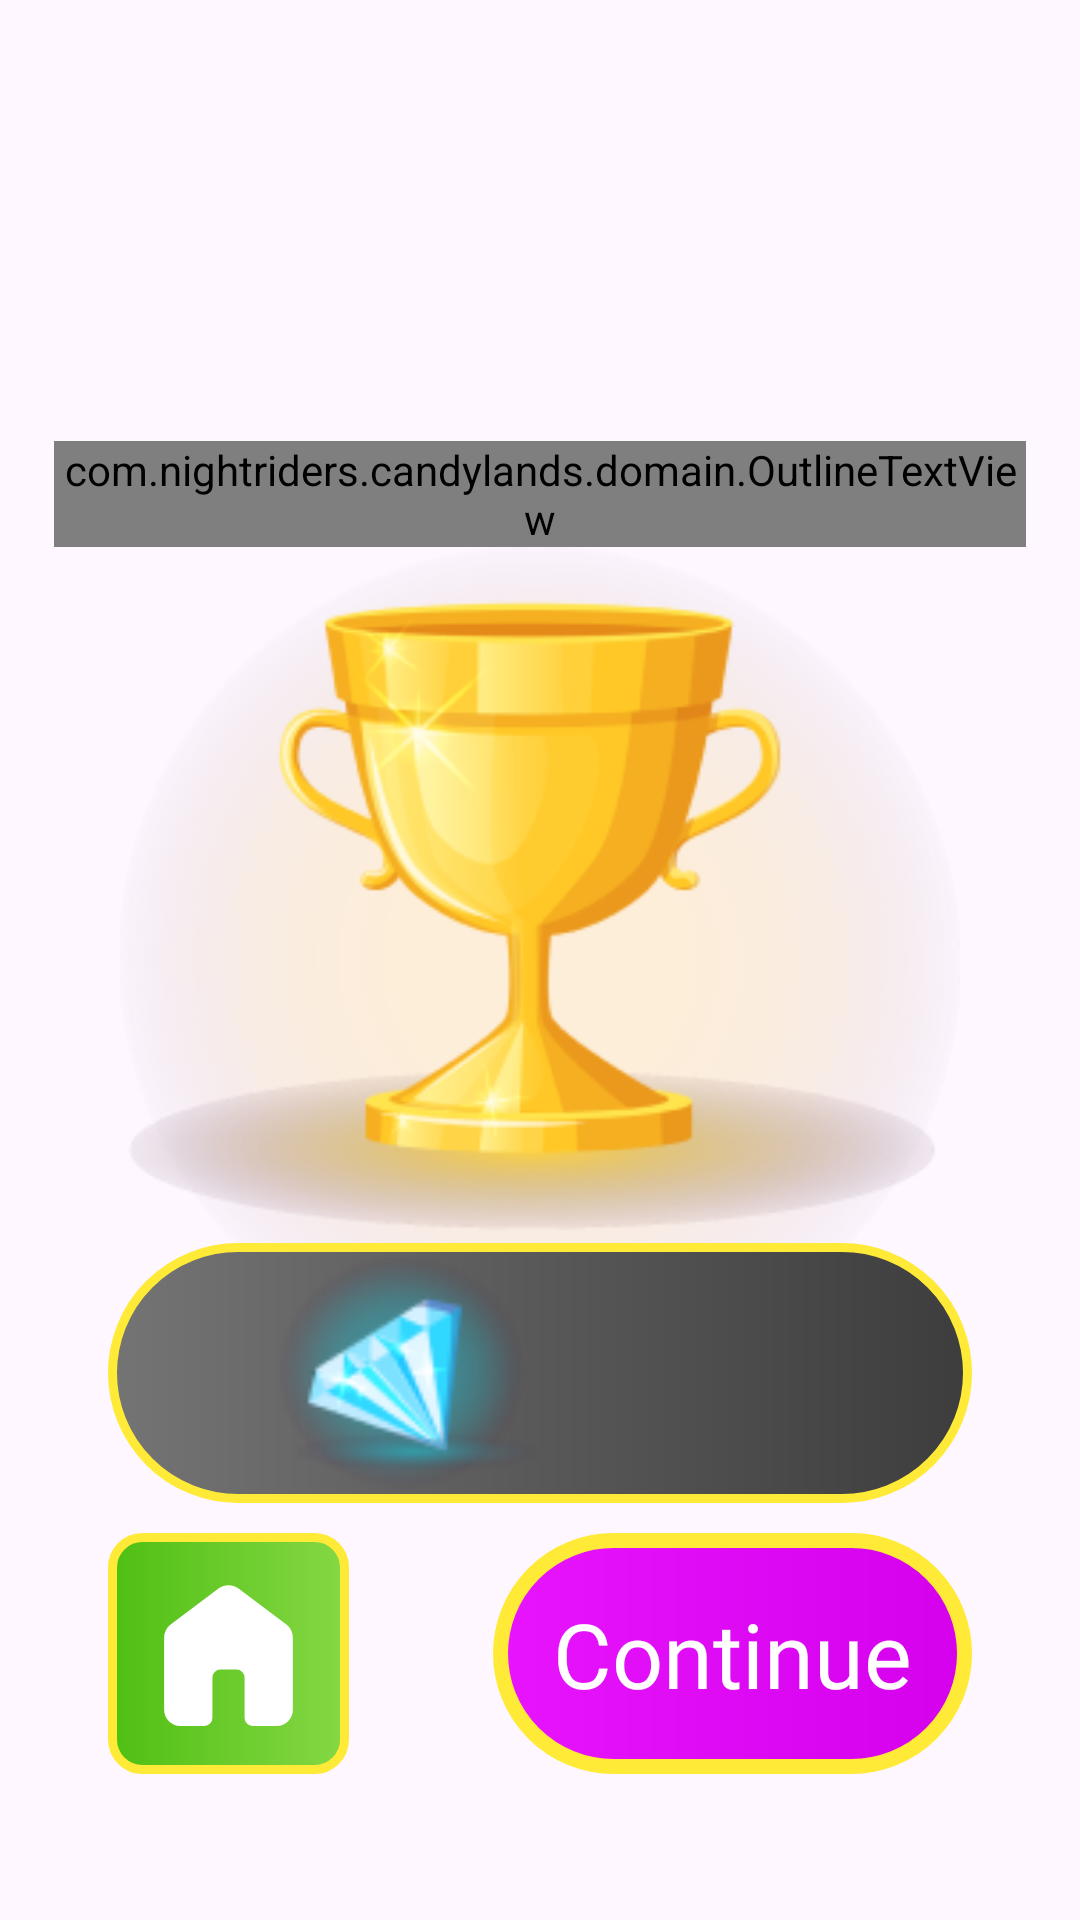

Icon bounding boxes for this 1080 x 1920 phone screenshot, format (x1, y1, x2, y2):
home without: (108, 1533, 349, 1774)
